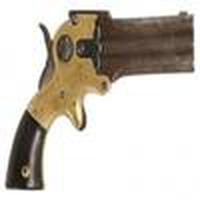gun: (2, 8, 195, 200)
